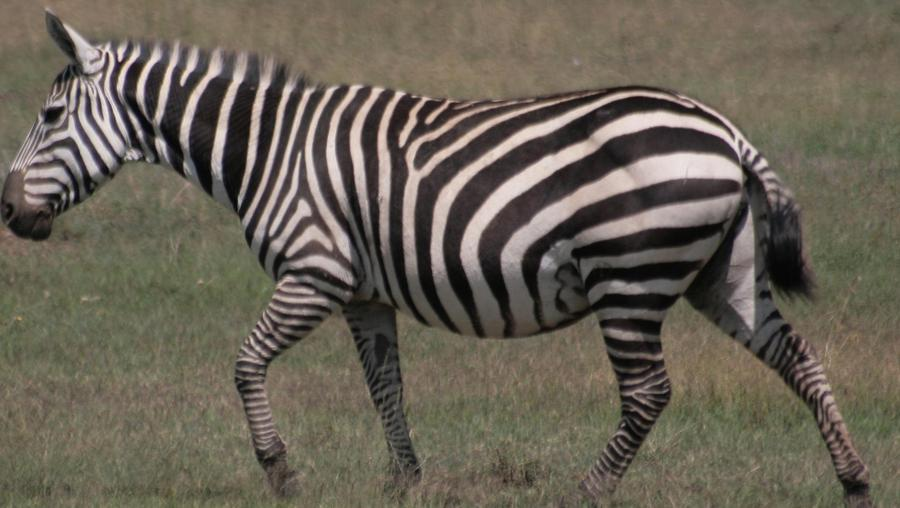zebra_plains: (249, 58, 701, 339)
